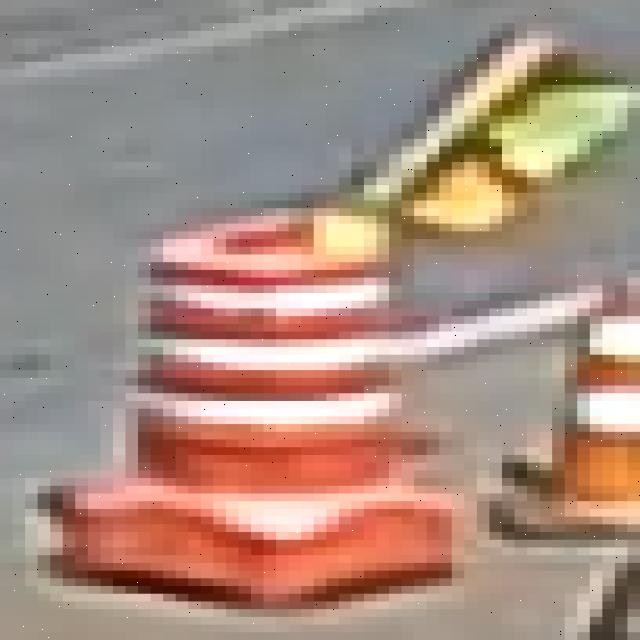big_cone: (152, 218, 394, 609)
